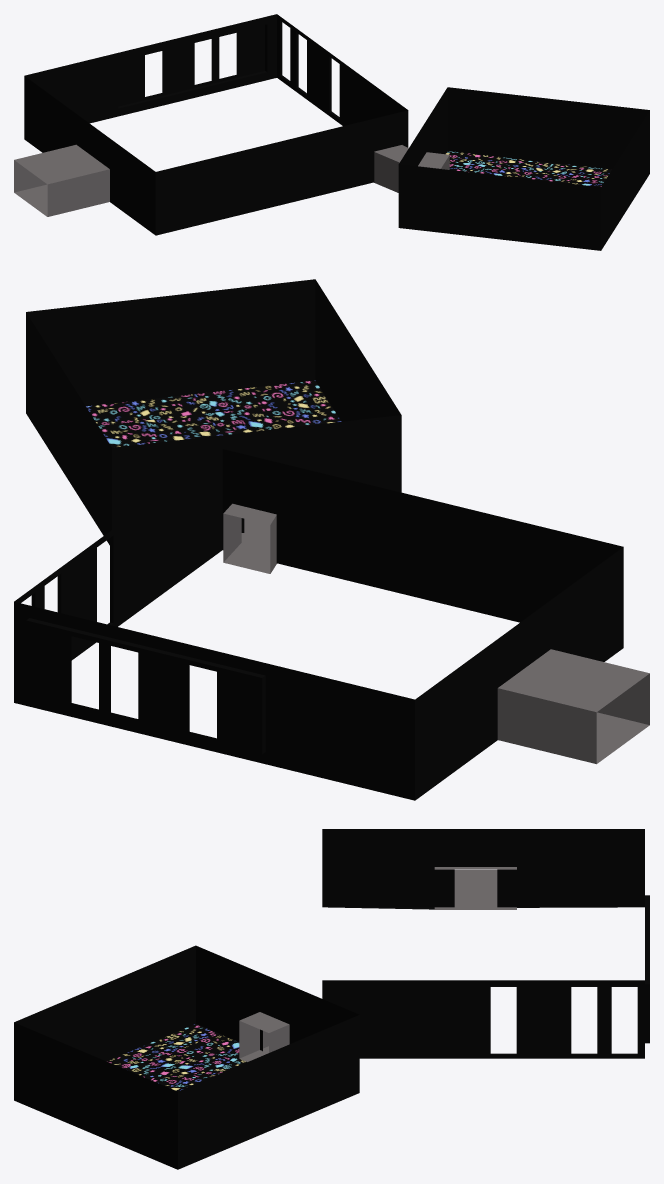
The model's file is Layout 1.fbx.
3 views of the same model, one above another, from view 1: azimuth 30°, elevation 25°; view 2: azimuth 150°, elevation 25°; view 3: azimuth 270°, elevation 25° (orthographic). The views are drawn at different scales.
Visible parts, largest first — view 1: Cube.035; view 2: Cube.035; view 3: Cube.035.
Part boxes in pixels (box(x1,y1,x2,y2)): Cube.035: box(14, 14, 649, 250); Cube.035: box(14, 279, 649, 800); Cube.035: box(14, 829, 649, 1169).
Bounding box in the file's own units: 17625 × 2203 × 15889.
